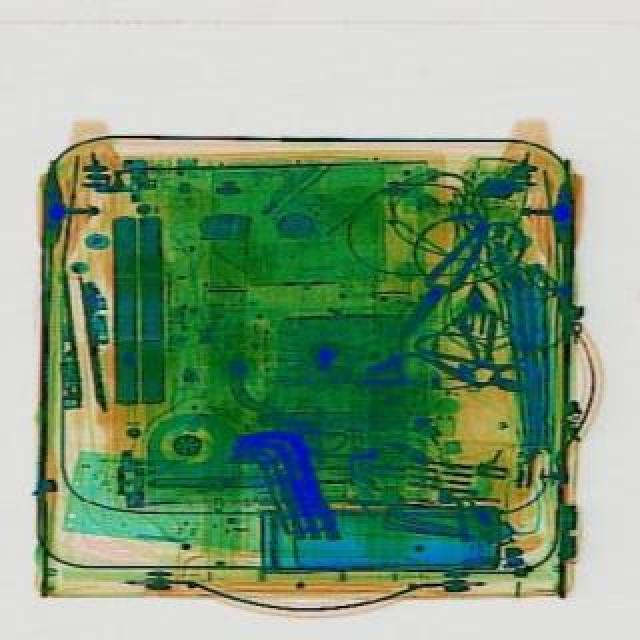pliers: (354, 186, 534, 370), (424, 274, 530, 374)
